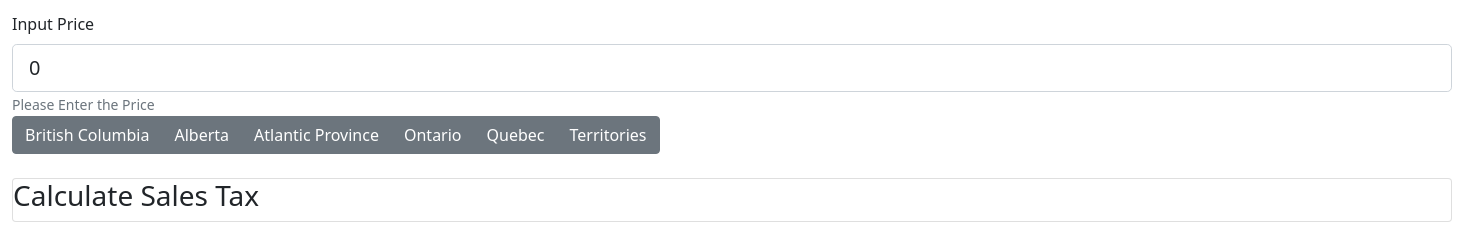
Test: federal test › calculation works
The width and height of the screenshot is (1464, 239).
Replace the text in the number field with test id "input-total" with "1" at (732, 68), box x1=12 y1=44 x2=1452 y2=92
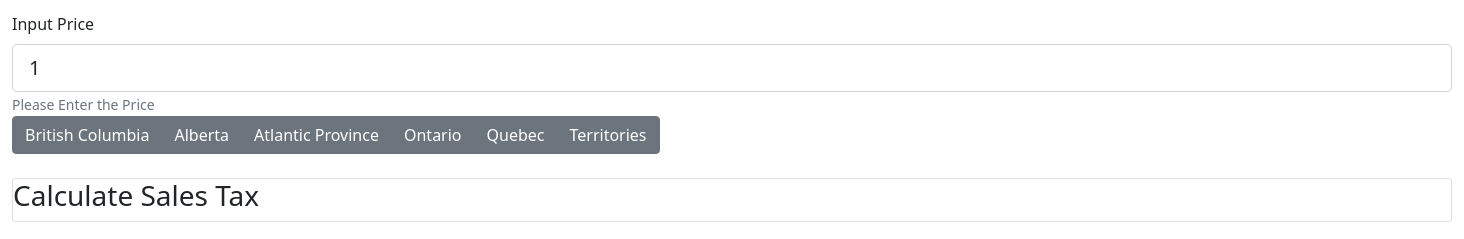
Click the button "British Columbia" at (87, 135), box x1=12 y1=116 x2=162 y2=154
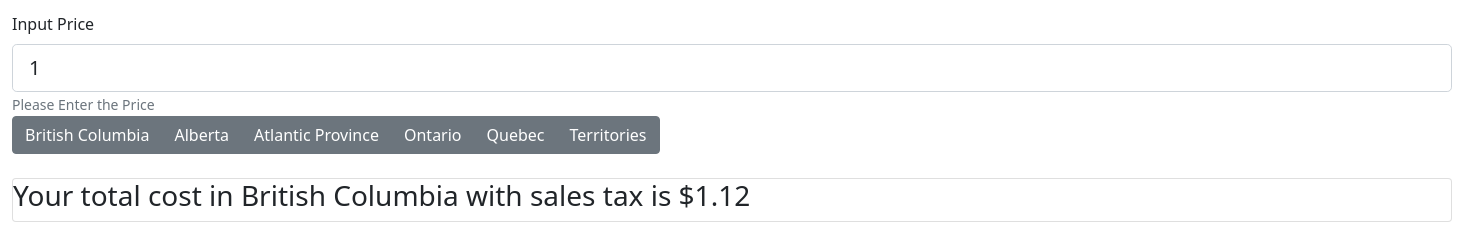
Check: the heading with test id "output-total" reads "Your total cost in British Columbia with sales tax is $1.12", box x1=13 y1=176 x2=750 y2=214
